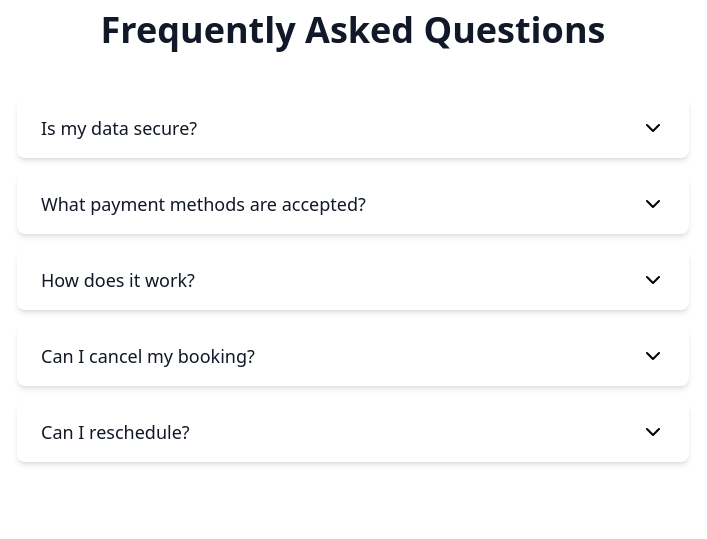
FAQ › collapses an expanded item when clicked again
This screenshot has width=707, height=539.
What coordinates should you click on to do the following:
click the button "Is my data secure?"
I would click on:
 (119, 128)
Its box is x1=17 y1=98 x2=689 y2=158.
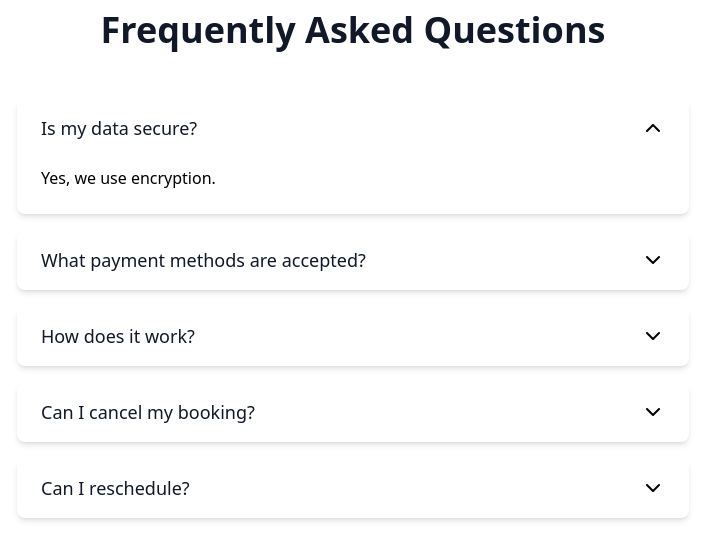
Result: the text "Yes, we use encryption." is shown at x1=41 y1=167 x2=216 y2=189
What coordinates should you click on to do the following:
click the button "Is my data secure?"
I would click on:
 (119, 128)
Its box is x1=17 y1=98 x2=689 y2=158.
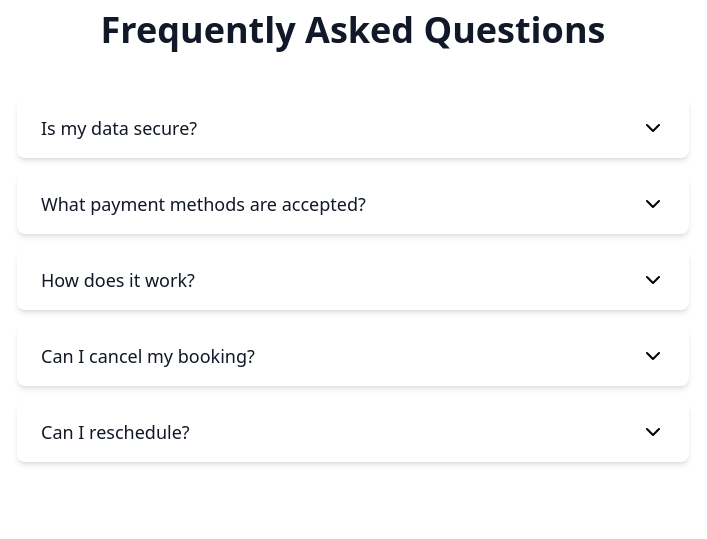
Result: the text "Yes, we use encryption." is gone
